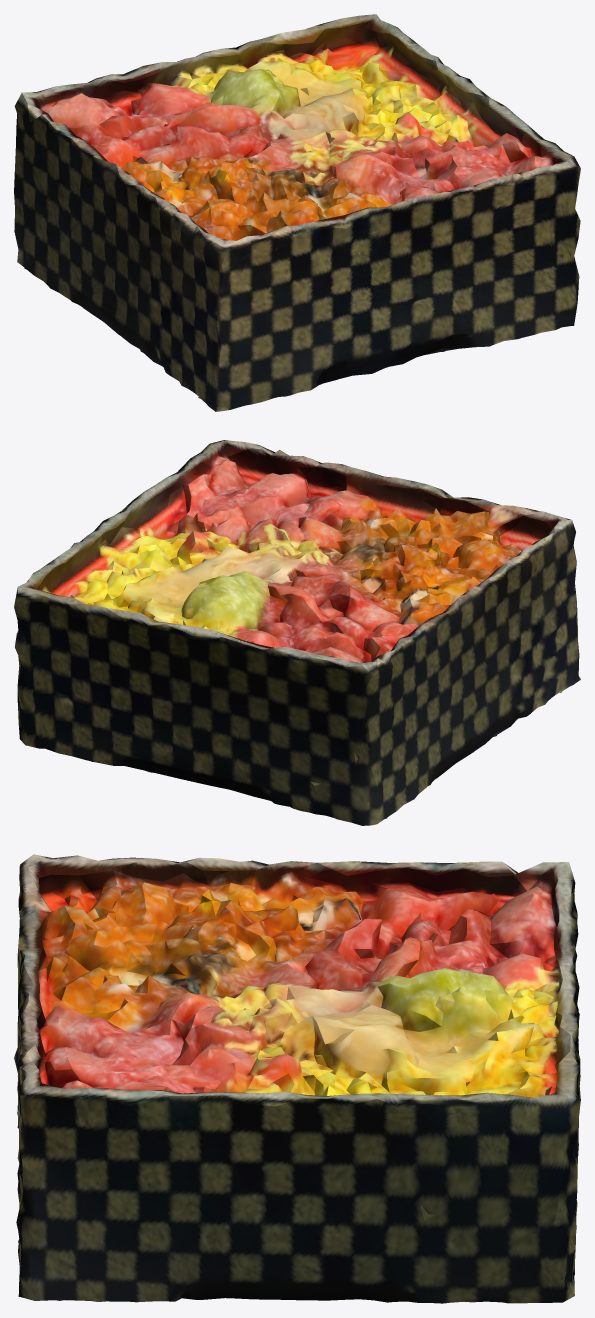
3 views of the same model, one above another, from view 1: azimuth 30°, elevation 25°; view 2: azimuth 150°, elevation 25°; view 3: azimuth 270°, elevation 25° (orthographic). The views are drawn at different scales.
Visible parts, largest first — view 1: Tuna_salmon_caviar_lanch_box; view 2: Tuna_salmon_caviar_lanch_box; view 3: Tuna_salmon_caviar_lanch_box.
Boxes of the visible parts, x1,y1,x2,y2 form: Tuna_salmon_caviar_lanch_box: (14,14,580,411); Tuna_salmon_caviar_lanch_box: (14,440,580,825); Tuna_salmon_caviar_lanch_box: (14,854,580,1303).
Size of the model in its own units: 0.1364 by 0.0609 by 0.1368.
1 material, 1 textured.
